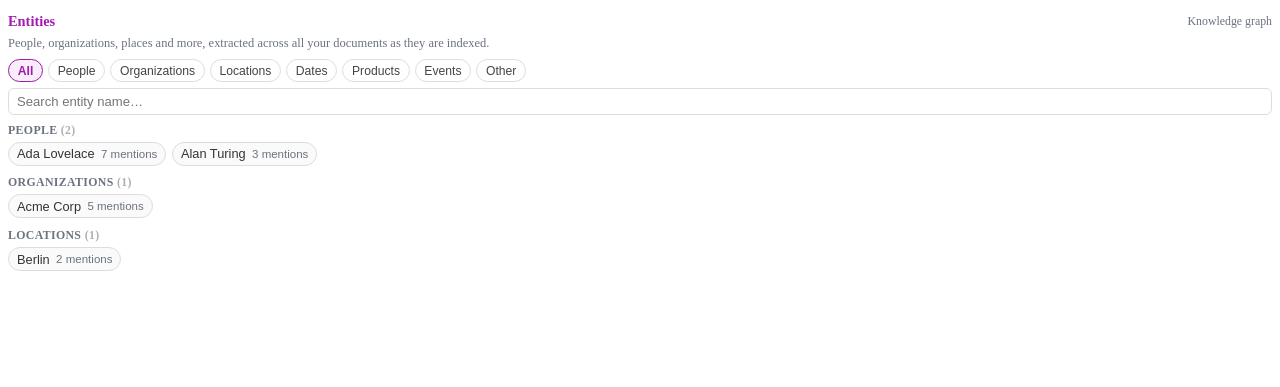
Test: re-clicking the open entity collapses its detail
This screenshot has width=1280, height=387.
Click the text "Ada Lovelace" at (56, 154), box [17, 146, 95, 161]
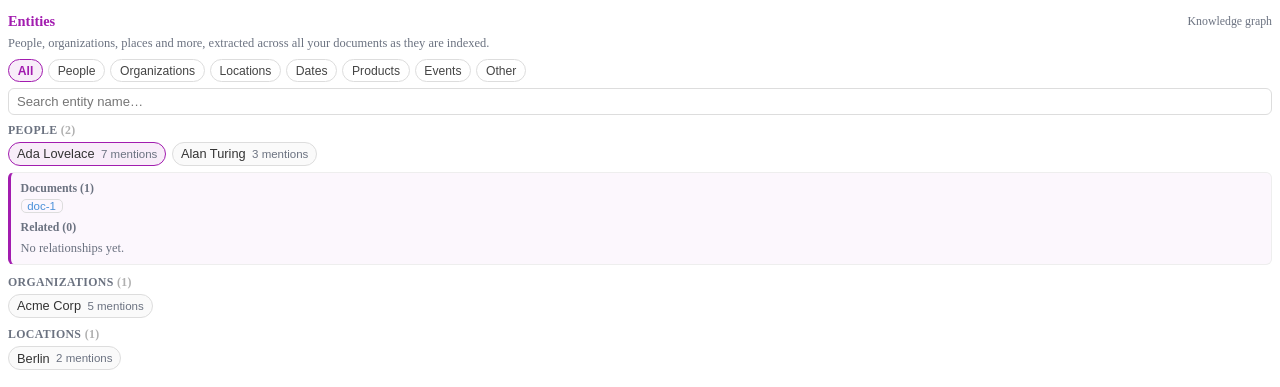
Expected: the element with test id "entity-detail" is shown, [8, 172, 1272, 265]
Click the text "Ada Lovelace" at (56, 154), box [17, 146, 95, 161]
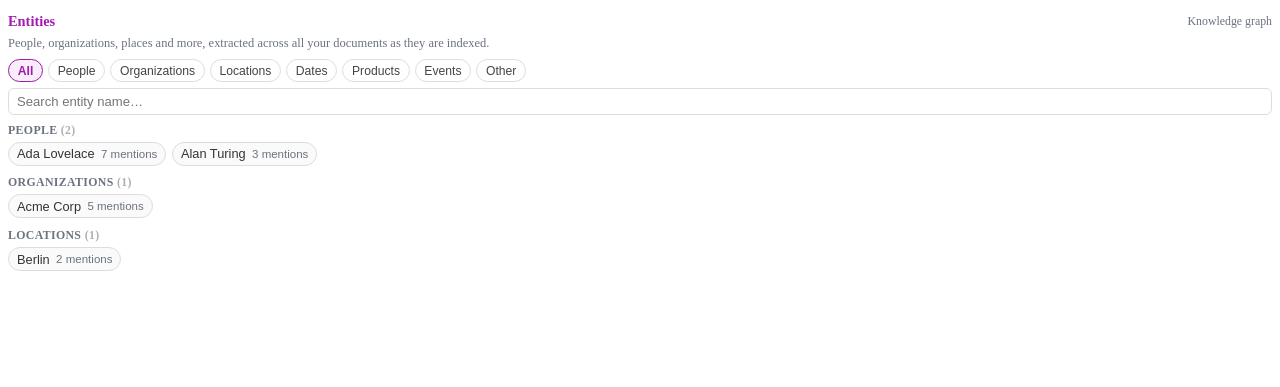
Expected: the element with test id "entity-detail" is gone
